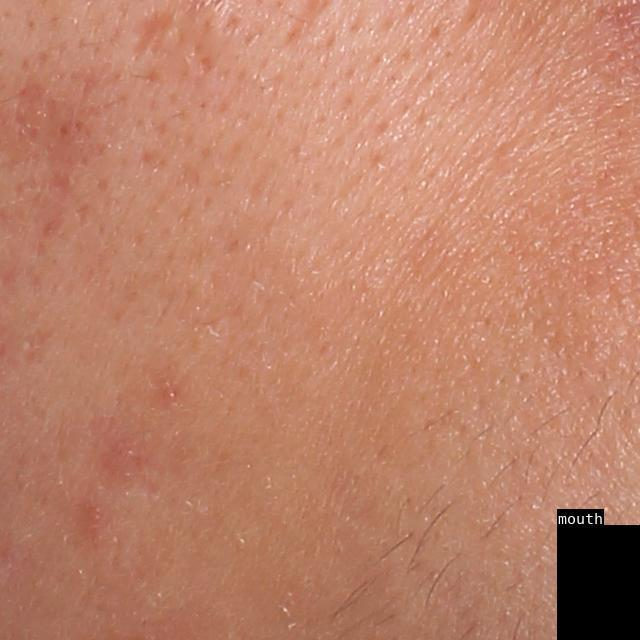atrophic_scar: (130, 10, 175, 58), (18, 325, 56, 364)
